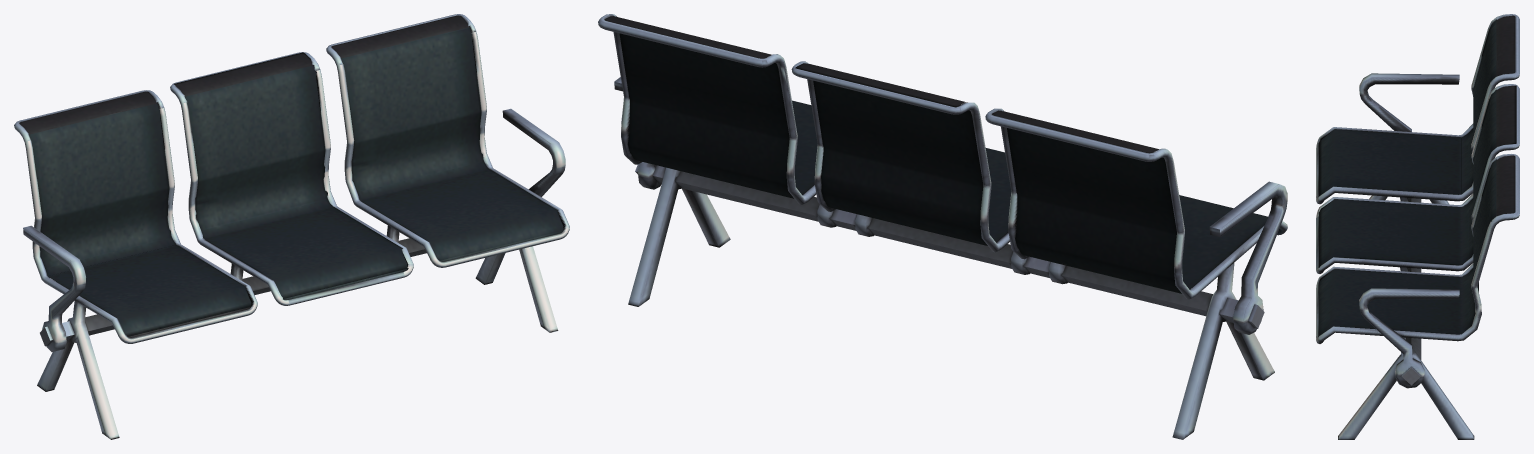
Rendered from 3Dguoji_JYJY_GGZY_ljw.FBX.
3 renders of one model, left to right at view 1: azimuth 30°, elevation 25°; view 2: azimuth 150°, elevation 25°; view 3: azimuth 270°, elevation 25°, orthographic. The views are drawn at different scales.
Parts seen in each view (by area): view 1: 3Dguoji_JYJY_GGZY_ljw; view 2: 3Dguoji_JYJY_GGZY_ljw; view 3: 3Dguoji_JYJY_GGZY_ljw.
Part boxes in pixels (x1,y1,x2,y2): 3Dguoji_JYJY_GGZY_ljw: [14, 14, 569, 439]; 3Dguoji_JYJY_GGZY_ljw: [598, 14, 1287, 439]; 3Dguoji_JYJY_GGZY_ljw: [1316, 14, 1519, 439].
Bounding box in the file's own units: 1.6 × 0.7575 × 0.619.
